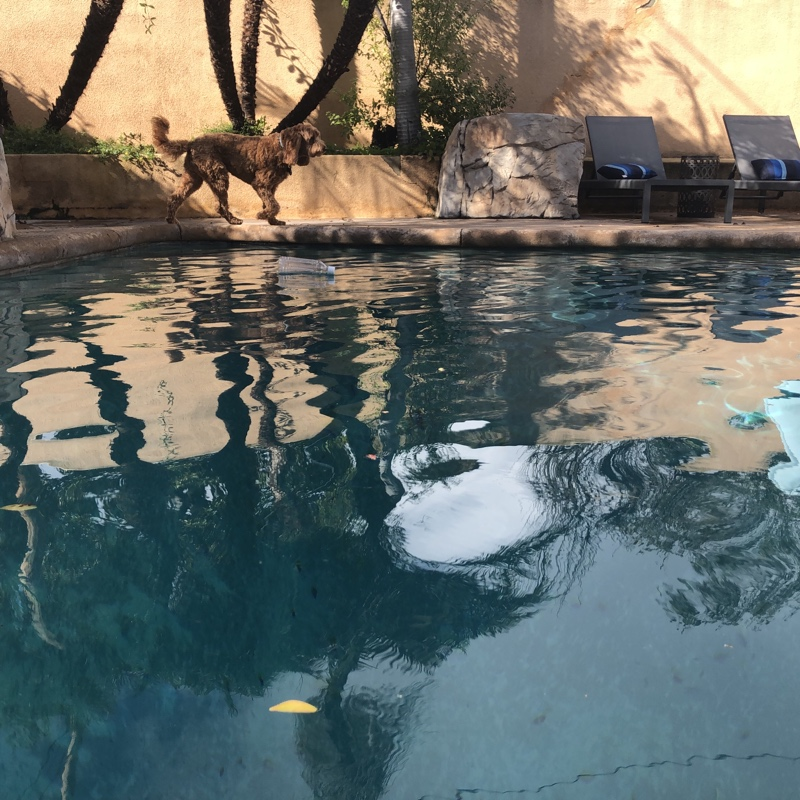Plastic Bottle: (274, 254, 336, 281)
